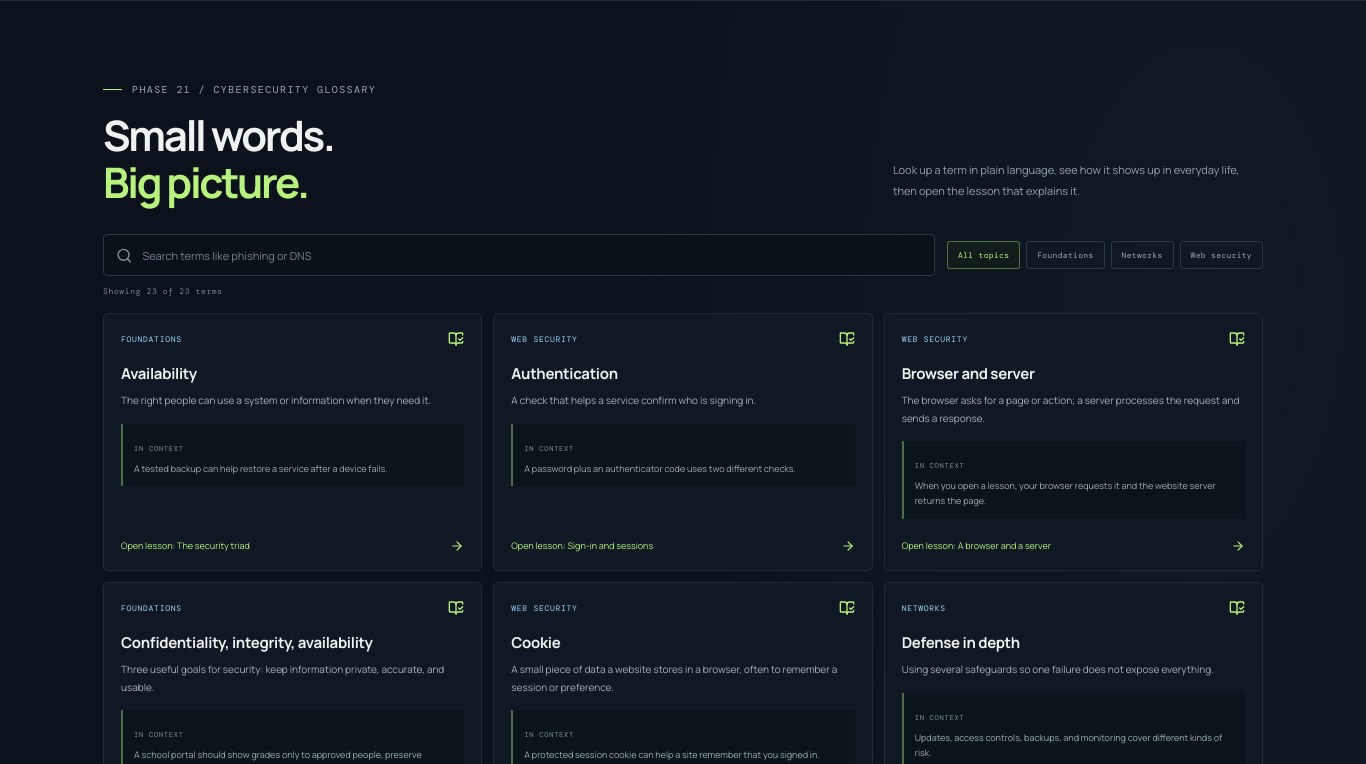
cybersecurity glossary › explains when a search has no matches
Type "not-a-real-term" into the search field named "search glossary terms" at (532, 255), box [142,238,922,273]
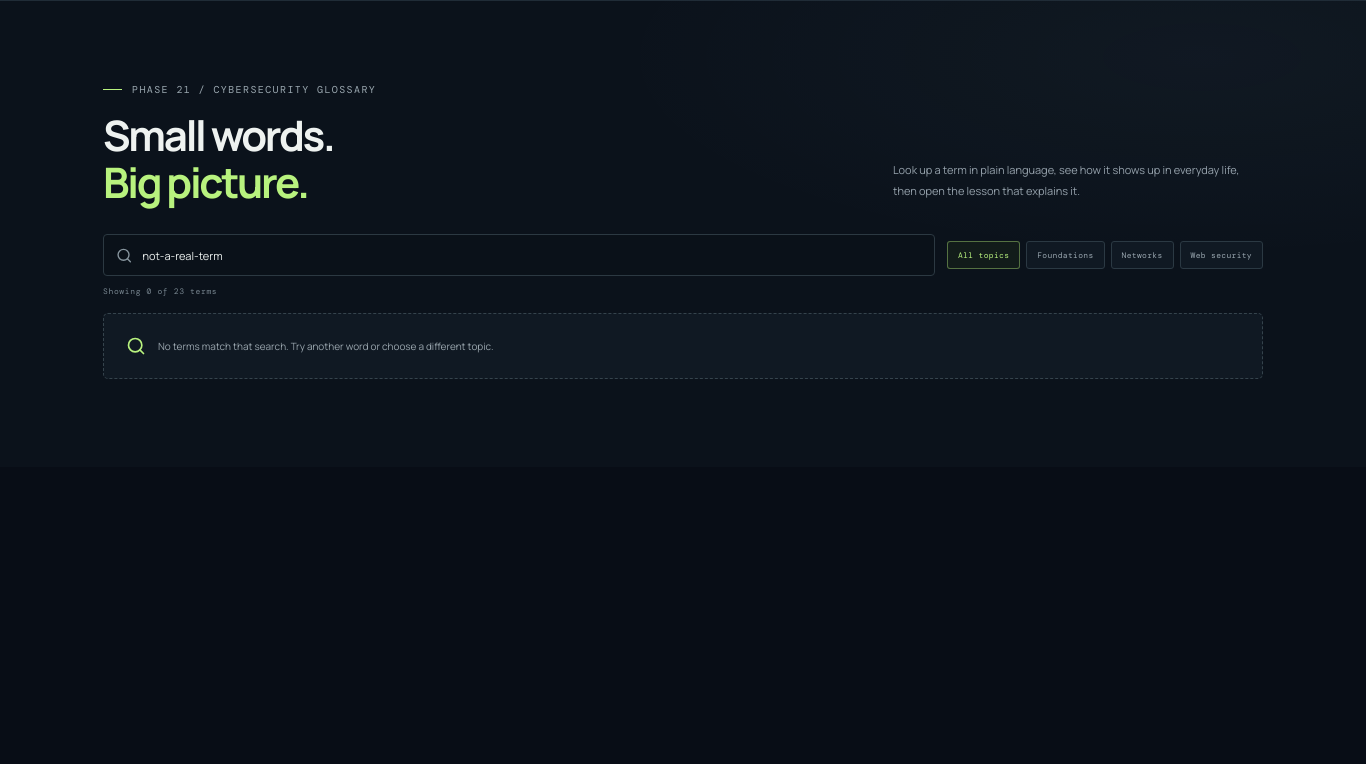
Expected: the text "Showing 0 of 23 terms" is shown, [103,286,217,296]
Expected: the text "No terms match that search" is shown, [158,339,494,353]
